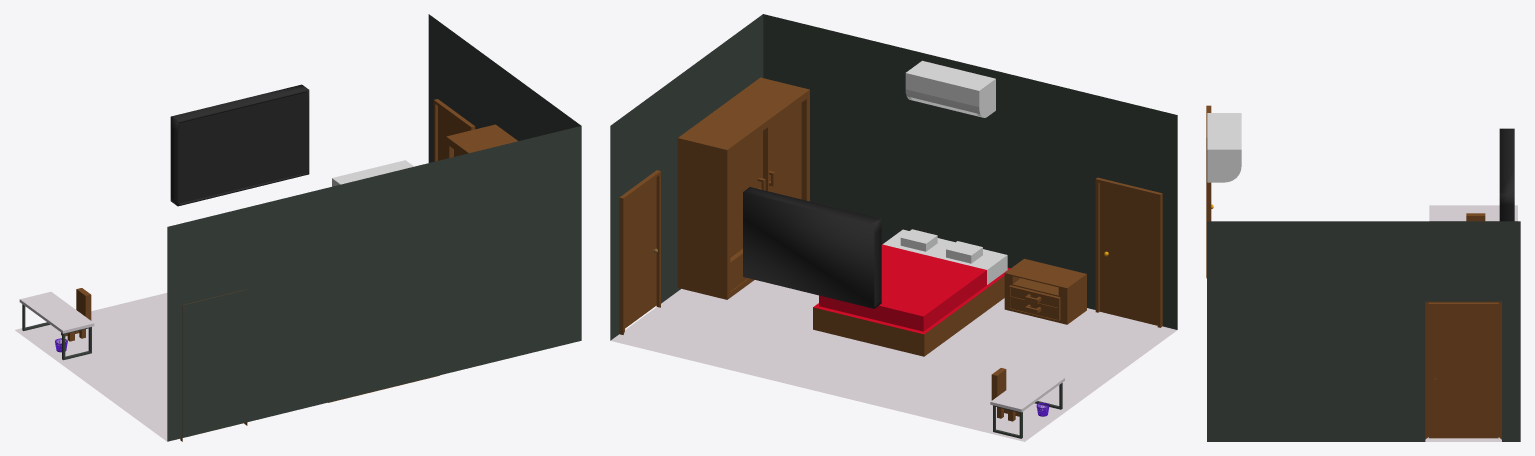
File: Quarto.fbx
The picture shows the model from 3 angles, left to right: view 1: azimuth 30°, elevation 25°; view 2: azimuth 150°, elevation 25°; view 3: azimuth 270°, elevation 25°; orthographic projection. The views are drawn at different scales.
Visible parts, largest first — view 1: Quarto, TV, Mesa, Armario, Ar-condicionado, Cadeira; view 2: Quarto, Armario, Cama, TV, Porta banheiro, Gavetas, Ar-condicionado, Mesa, Cadeira; view 3: Quarto, Ar-condicionado, TV, Mesa, Porta banheiro.
Part boxes in pixels (bbox=[...]): Quarto: bbox=[15, 14, 581, 441]; TV: bbox=[170, 84, 309, 206]; Mesa: bbox=[19, 291, 94, 360]; Armario: bbox=[446, 124, 517, 158]; Ar-condicionado: bbox=[332, 160, 413, 186]; Cadeira: bbox=[61, 288, 91, 341]; Quarto: bbox=[610, 14, 1177, 441]; Armario: bbox=[677, 77, 809, 299]; Cama: bbox=[813, 229, 1010, 356]; TV: bbox=[743, 187, 881, 308]; Porta banheiro: bbox=[1095, 177, 1162, 327]; Gavetas: bbox=[1004, 258, 1086, 324]; Ar-condicionado: bbox=[905, 60, 995, 117]; Mesa: bbox=[990, 370, 1064, 438]; Cadeira: bbox=[991, 368, 1019, 421]; Quarto: bbox=[1207, 221, 1520, 441]; Ar-condicionado: bbox=[1207, 113, 1241, 182]; TV: bbox=[1499, 128, 1514, 221]; Mesa: bbox=[1429, 205, 1517, 221]; Porta banheiro: bbox=[1206, 105, 1213, 278].
Size of the model in its own units: 9596 by 4836 by 6139.
